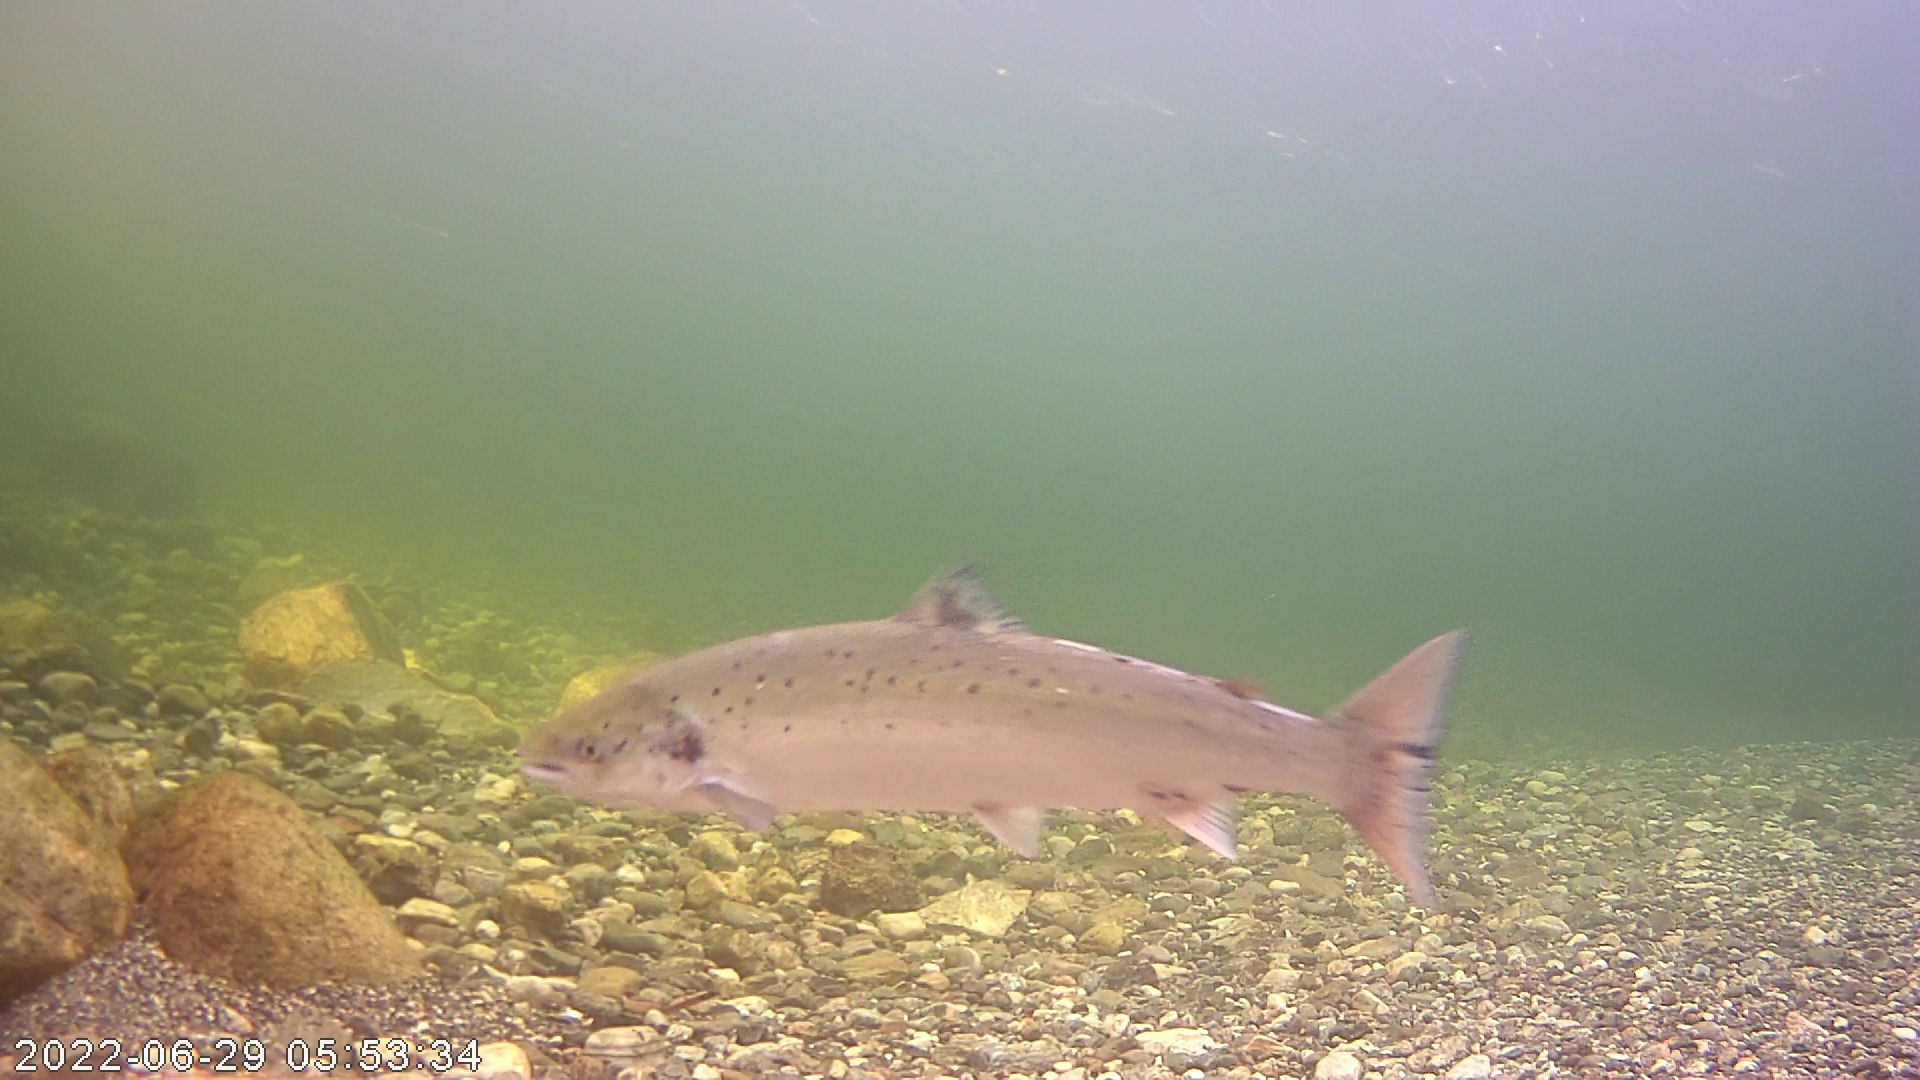salmon: (513, 531, 1470, 906)
